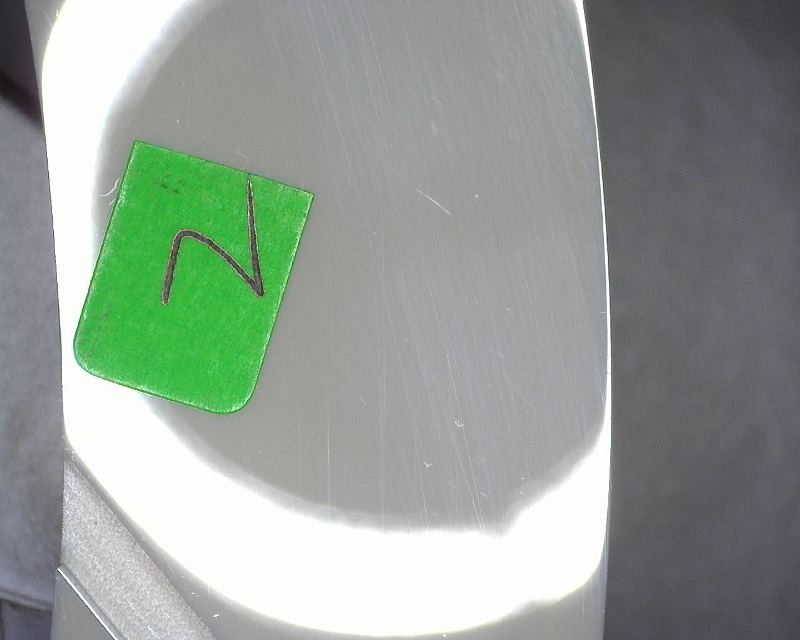scratch: (416, 185, 453, 218), (326, 421, 336, 511), (97, 178, 119, 195), (453, 415, 463, 430), (423, 456, 434, 469)
